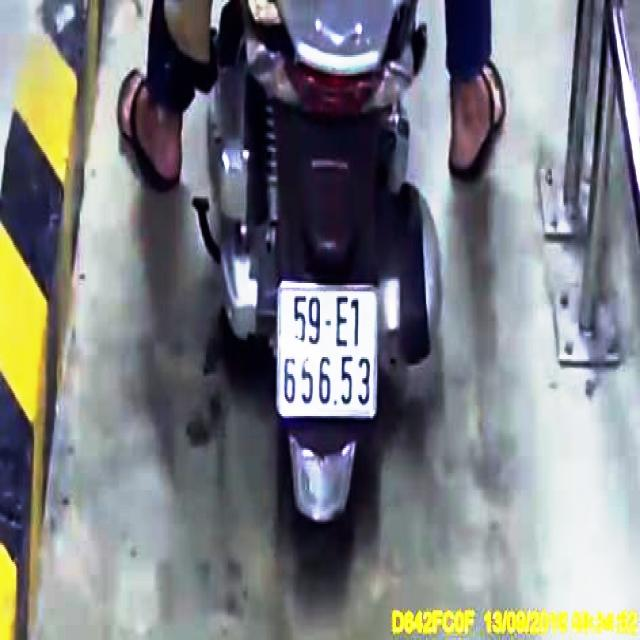license_plate: (279, 289, 378, 419)
